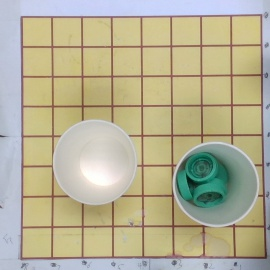cup: (54, 120, 138, 207)
cup_green: (172, 143, 259, 228)
